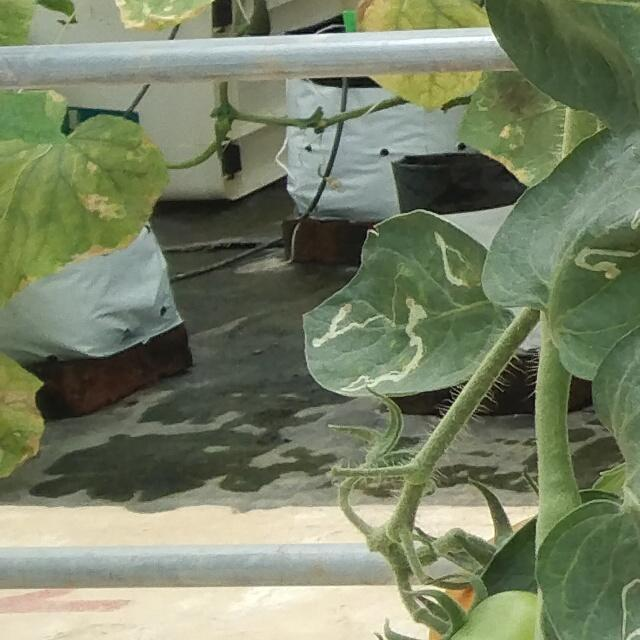Tomato target spot leaf: (292, 198, 524, 404), (480, 120, 640, 385), (530, 490, 640, 640)
